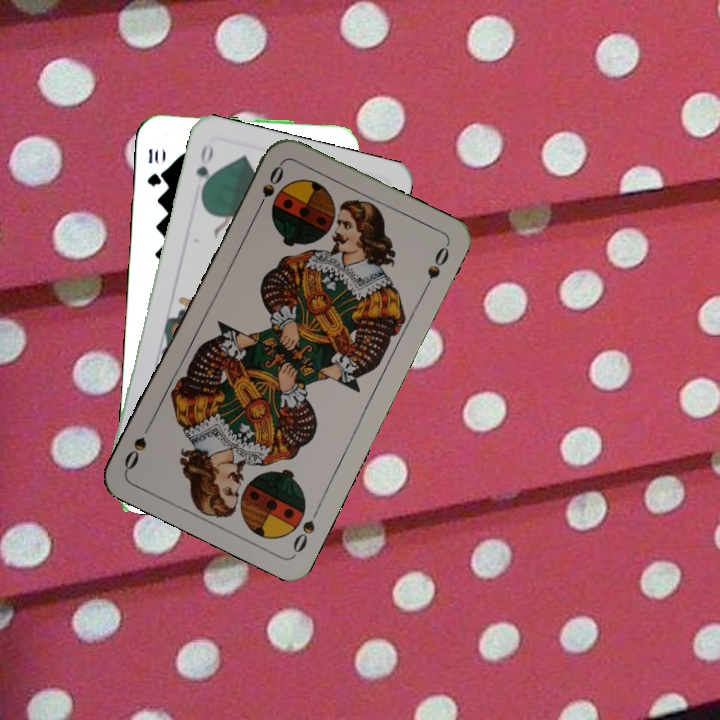G10: (143, 145, 164, 189)
GO: (192, 141, 217, 199)
SO: (252, 159, 287, 215), (289, 501, 323, 556)
